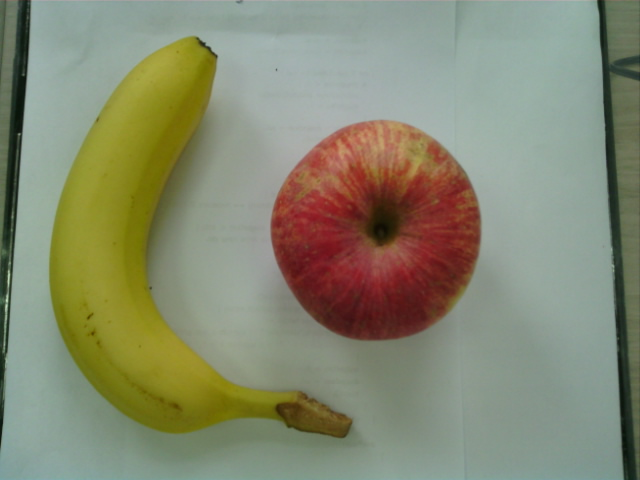normal_apple: (273, 120, 484, 342)
normal_banana: (51, 36, 347, 438)
